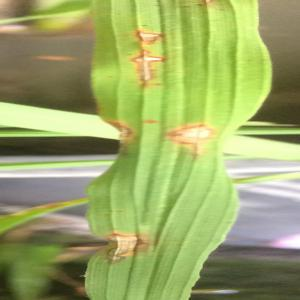1 RiceBlast: (90, 223, 156, 264), (119, 53, 182, 90), (163, 121, 213, 155), (103, 113, 144, 154), (124, 25, 169, 49)
